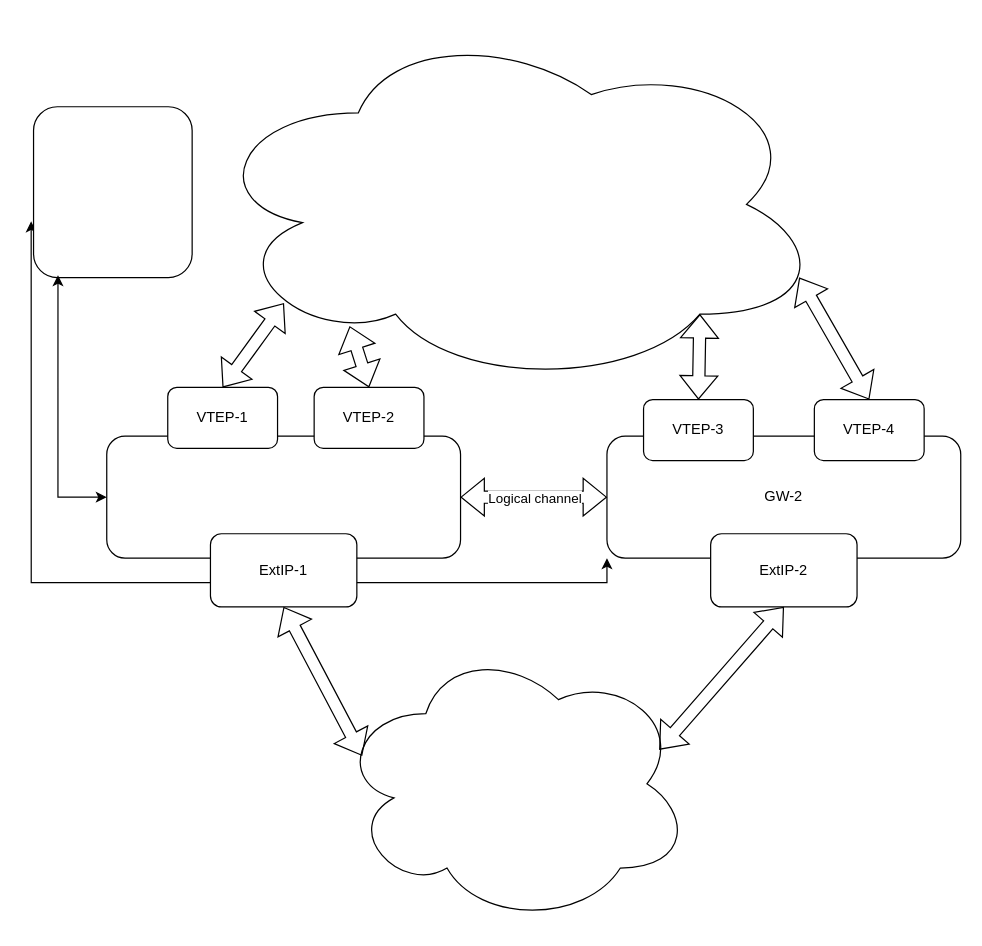
Image size: 982x946. Some labels were removed from this diagram. Here are the shapes that lost their labels. From the top down, the box of each, then its label:
(32, 106, 192, 278): HH Controller
(202, 20, 824, 387): HH VPC Fabric: EVPN over BGP
(106, 435, 461, 558): GW-1
(336, 642, 691, 924): External networks: infra/Internet/etc
